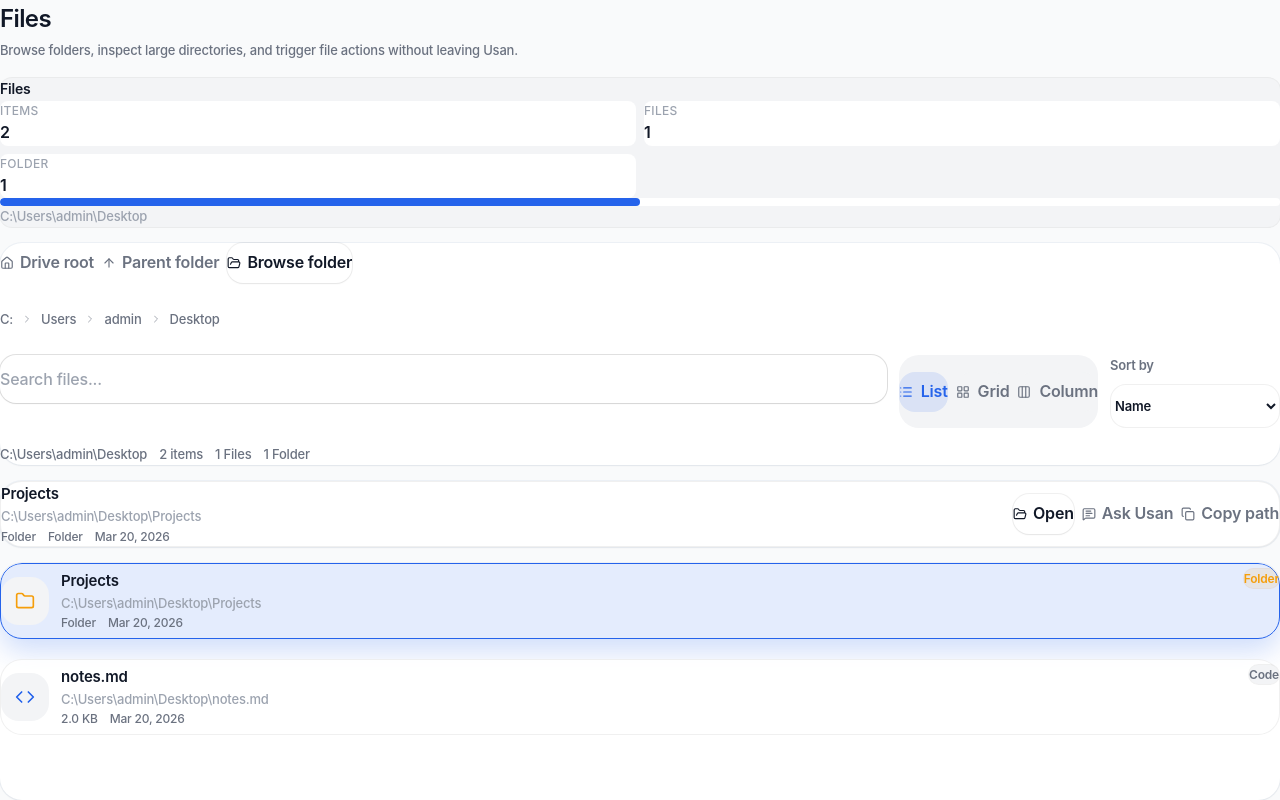
Scenario: FilesPage › switches to column view and shows inspector details
Expected: the element with test id "files-action-bar" is shown, [0,481,1279,547]
Click the button with test id "files-view-column" at (1058, 392), box [1017,372,1098,412]
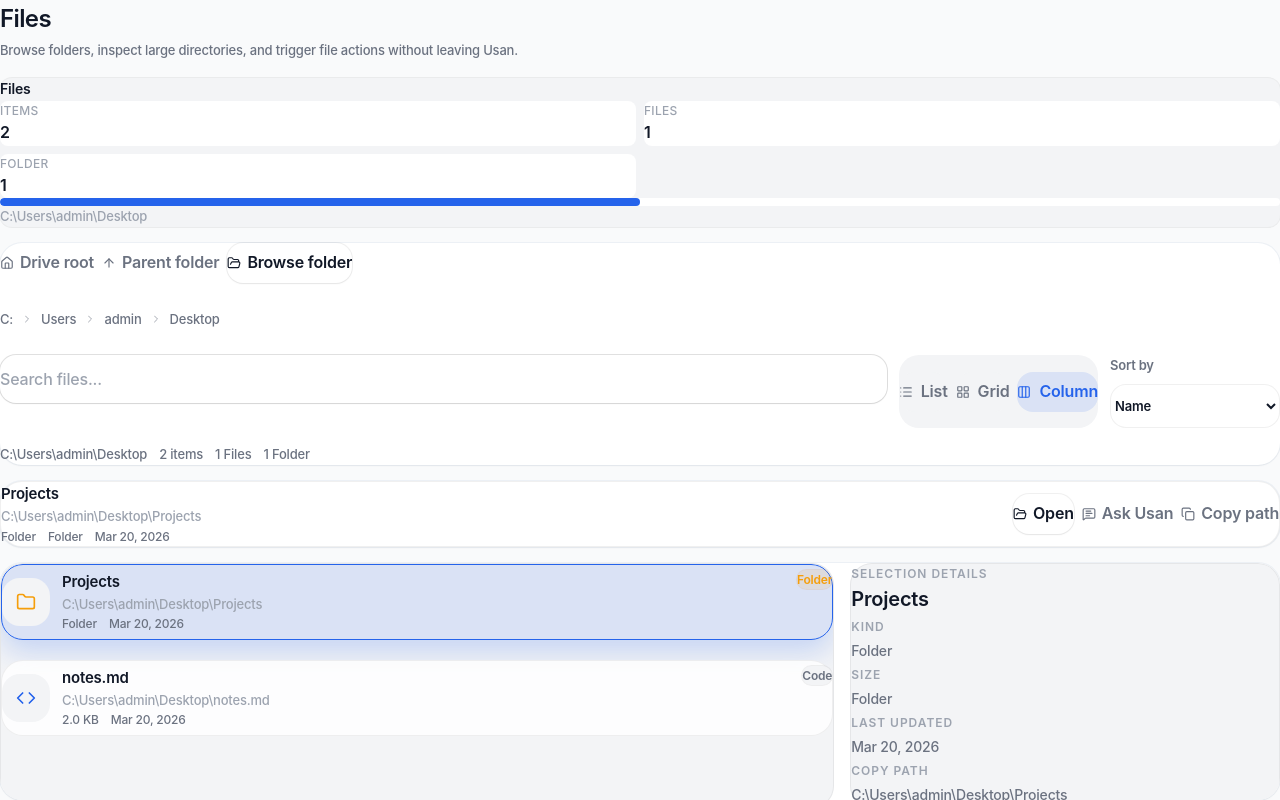
Result: the element with test id "files-column-inspector" is shown at [850,563,1279,799]
Result: the text "Selection details" is shown at [851,566,988,581]
